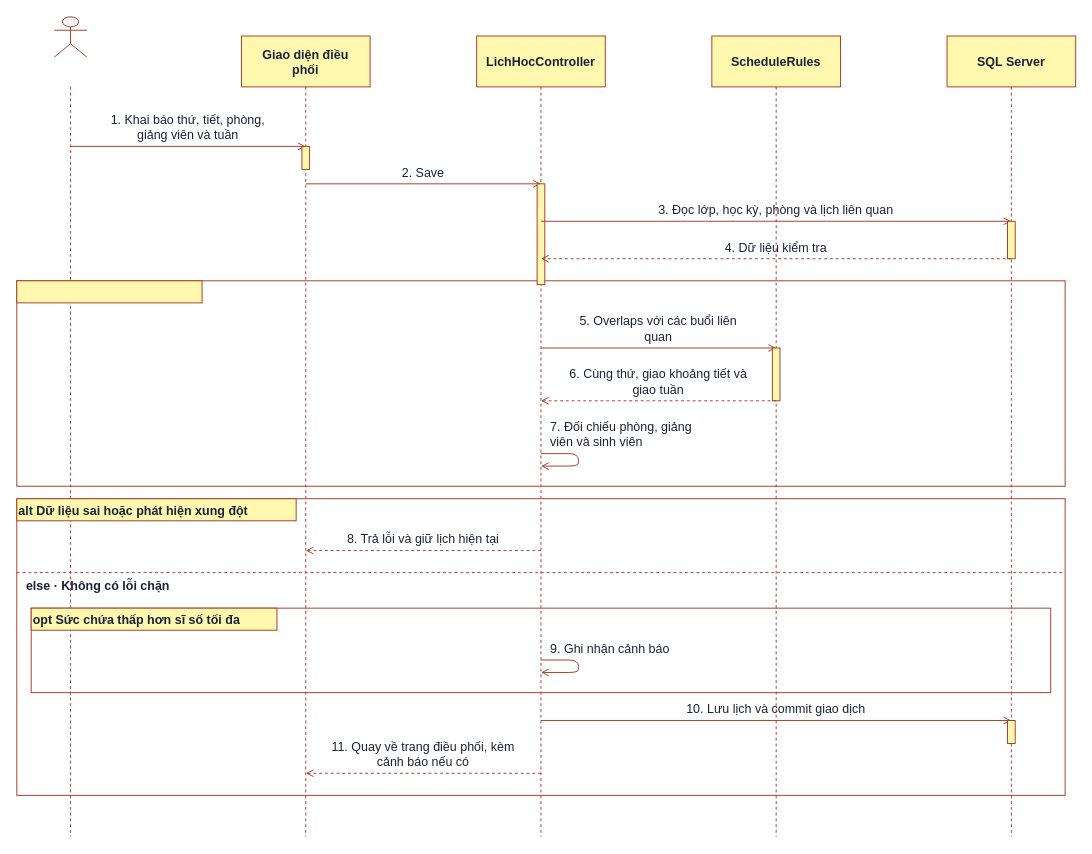
Image size: 1092x854. Some labels were removed from this diagram. Here are the shapes that lost their labels. From the top down, the centre of each, then its label:
At [70,36]: "Quản trị viên".
At [109,291]: "loop Từng buổi học hợp lệ".
